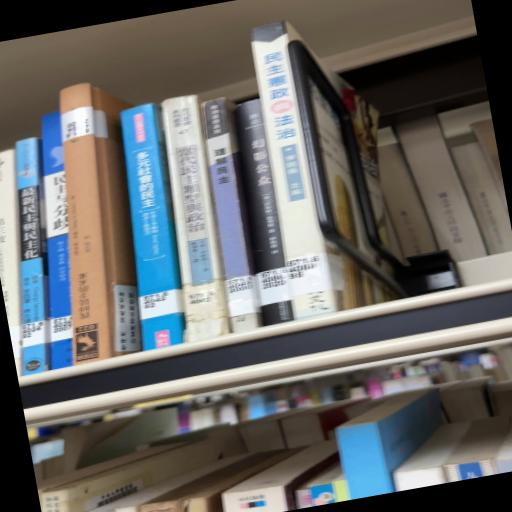book: (251, 22, 347, 320), (162, 95, 231, 342), (121, 104, 186, 351), (202, 98, 263, 332), (236, 99, 294, 326), (42, 111, 74, 370), (17, 139, 51, 375)
reverse: (60, 83, 142, 365)
